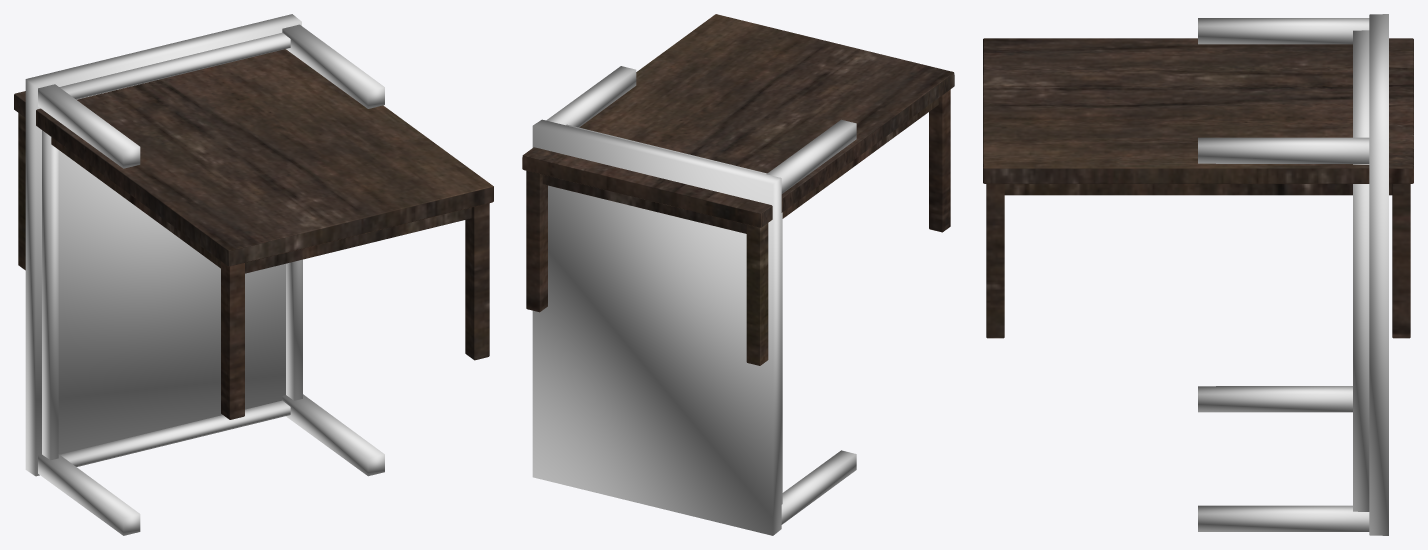
The model's file is SM_Table.fbx.
The picture shows the model from 3 angles, left to right: view 1: azimuth 30°, elevation 25°; view 2: azimuth 150°, elevation 25°; view 3: azimuth 270°, elevation 25°; orthographic projection. The views are drawn at different scales.
Parts seen in each view (by area): view 1: SM_Table_ConvexHulls, SM_Table; view 2: SM_Table_ConvexHulls, SM_Table; view 3: SM_Table, SM_Table_ConvexHulls.
Boxes of the visible parts, x1=… form: SM_Table_ConvexHulls: x1=25, y1=14, x2=384, y2=535; SM_Table: x1=14, y1=49, x2=493, y2=419; SM_Table_ConvexHulls: x1=532, y1=66, x2=856, y2=535; SM_Table: x1=522, y1=14, x2=954, y2=365; SM_Table: x1=983, y1=38, x2=1413, y2=338; SM_Table_ConvexHulls: x1=1198, y1=14, x2=1388, y2=535.
Size of the model in its own units: 1.25 by 1.75 by 1.75.
